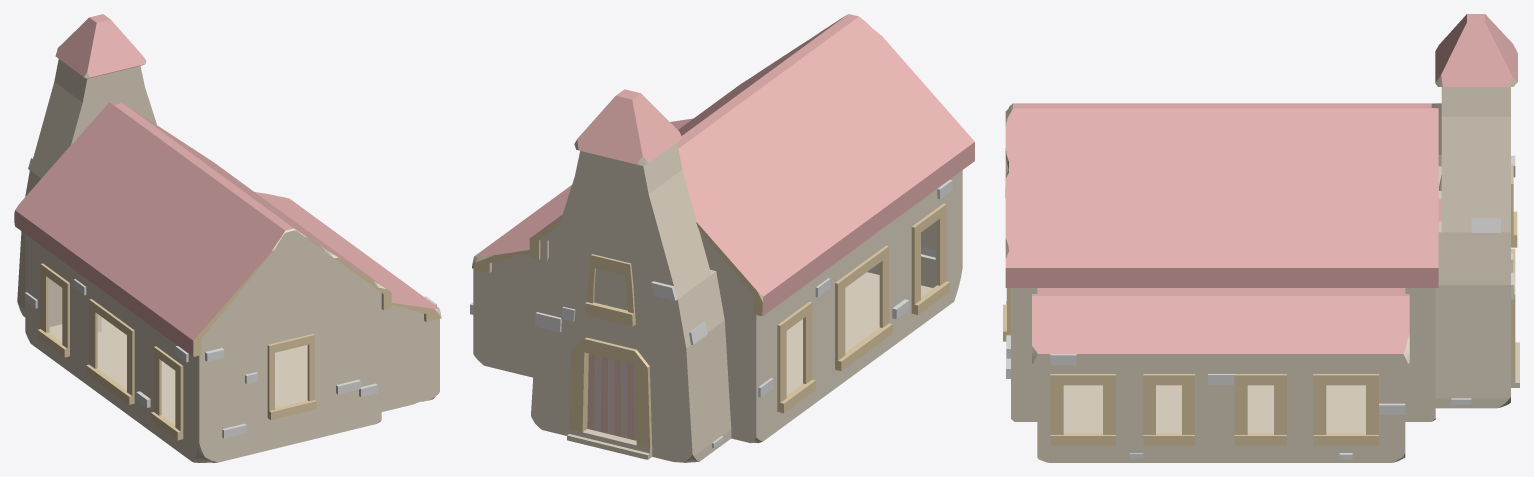
Rendered from iglesia.fbx.
3 views of the same model, side by side, from view 1: azimuth 30°, elevation 25°; view 2: azimuth 150°, elevation 25°; view 3: azimuth 270°, elevation 25° (orthographic). The views are drawn at different scales.
Visible parts, largest first — view 1: Cube.001_dmg; view 2: Cube.001_dmg; view 3: Cube.001_dmg.
Part boxes in pixels (<box>): Cube.001_dmg: <box>14,14,441,462</box>; Cube.001_dmg: <box>470,14,974,462</box>; Cube.001_dmg: <box>1003,14,1519,462</box>.
Size of the model in its own units: 690 by 717 by 961.
